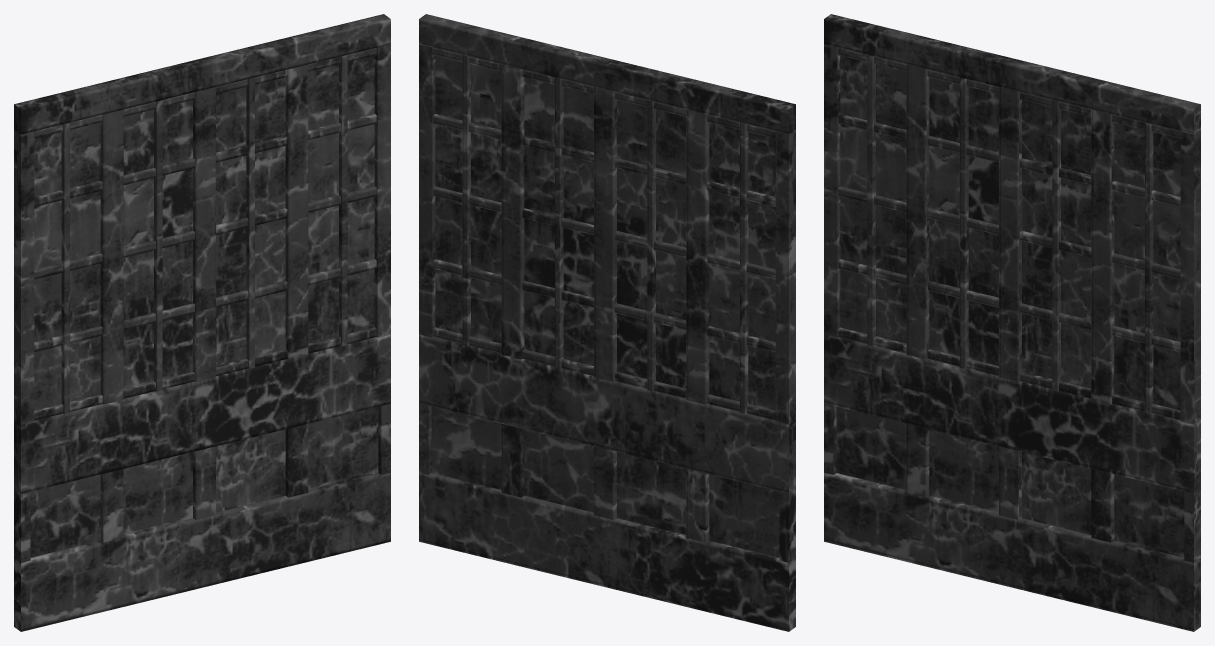
Rendered from BuildingA_GarageDoor.fbx.
The picture shows the model from 3 angles, left to right: view 1: azimuth 30°, elevation 25°; view 2: azimuth 150°, elevation 25°; view 3: azimuth 330°, elevation 25°; orthographic projection.
Visible parts, largest first — view 1: BuildingA_GarageDoor_LOD0; view 2: BuildingA_GarageDoor_LOD0; view 3: BuildingA_GarageDoor_LOD0.
Boxes of the visible parts, <box> form: BuildingA_GarageDoor_LOD0: <box>14,14,390,631</box>; BuildingA_GarageDoor_LOD0: <box>419,14,795,631</box>; BuildingA_GarageDoor_LOD0: <box>824,14,1200,631</box>.
Size of what is drawn, in the model's own units: 242 by 326 by 7.85.
